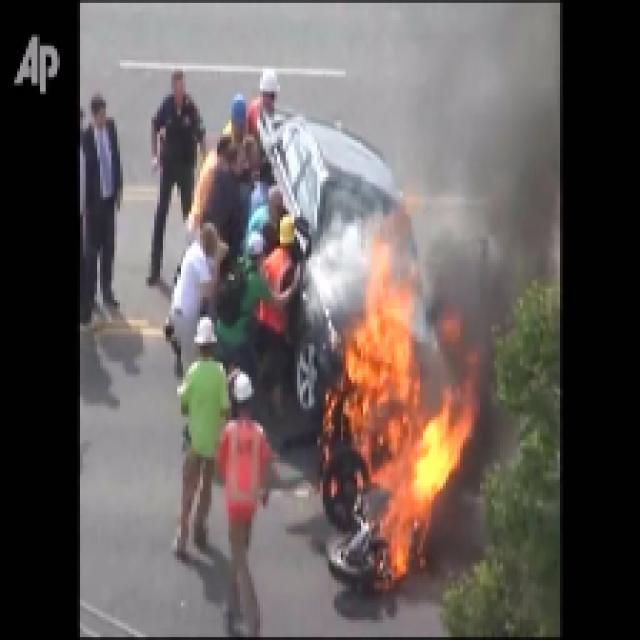Fire: (286, 234, 506, 592)
Smoke: (302, 5, 558, 318)
